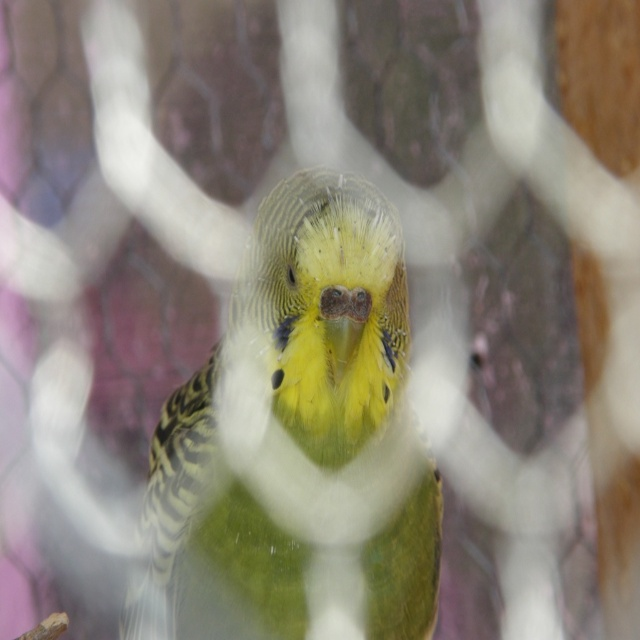Canary: (119, 167, 446, 639)
